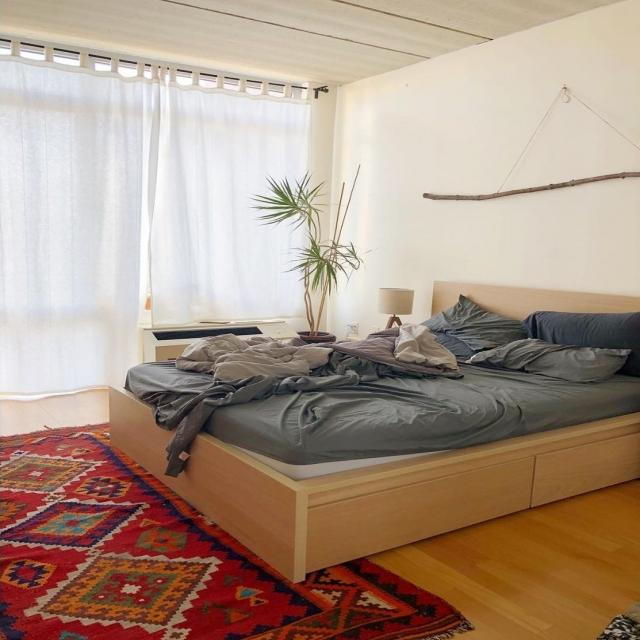bed: (124, 271, 640, 564)
